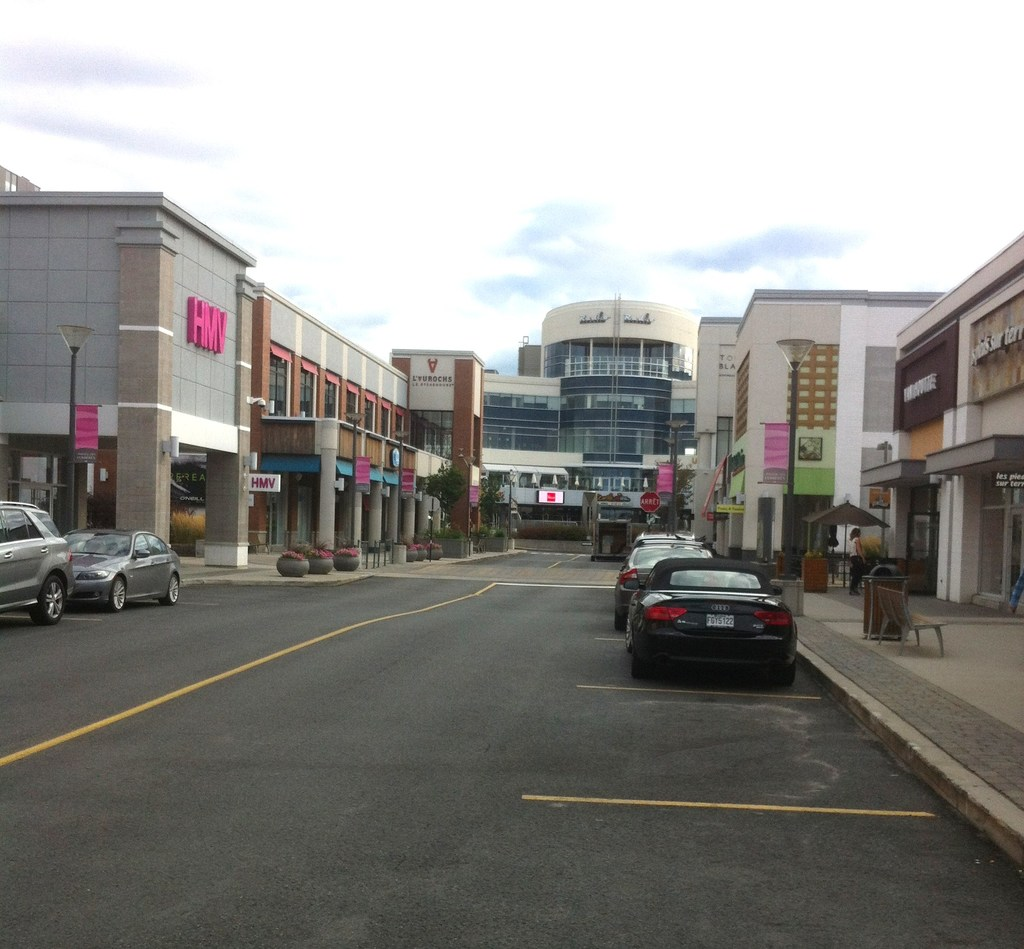Car: (613, 542, 805, 686), (64, 529, 183, 611), (0, 499, 69, 618), (618, 540, 722, 618), (634, 530, 696, 550)
